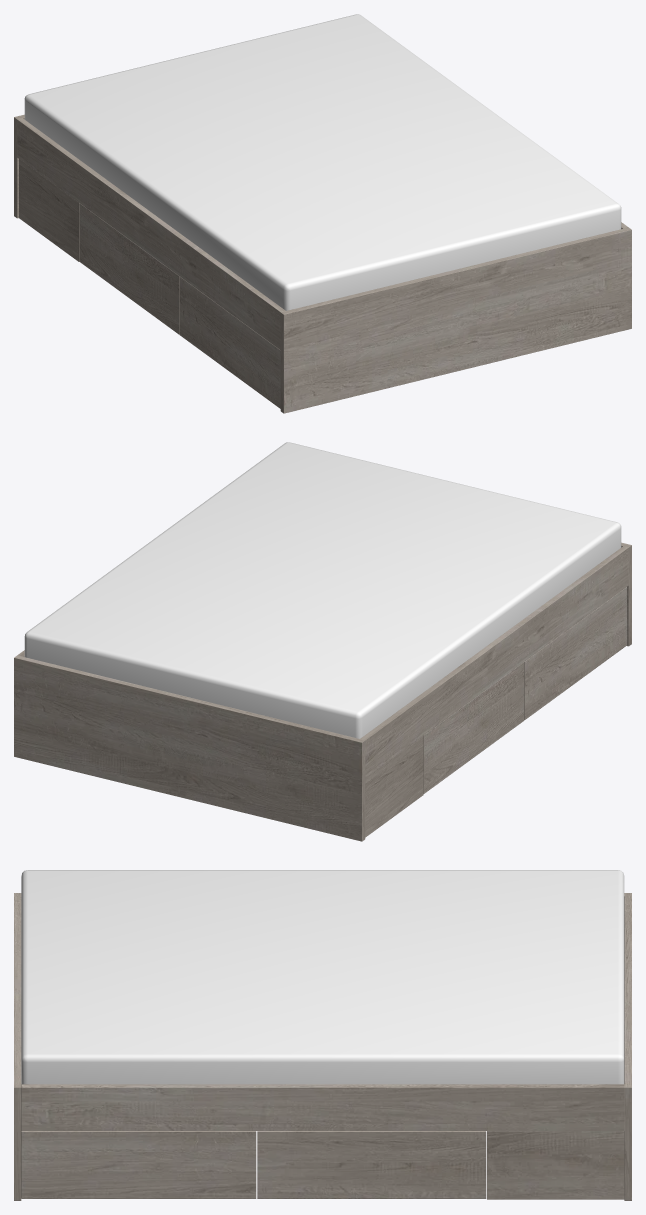
Rendered from abo-B07GFG2XXQ.glb.
3 views of the same model, one above another, from view 1: azimuth 30°, elevation 25°; view 2: azimuth 150°, elevation 25°; view 3: azimuth 270°, elevation 25° (orthographic). The views are drawn at different scales.
Size of the model in its own units: 1.45 by 0.4899 by 1.94.
1 material, 1 textured.
